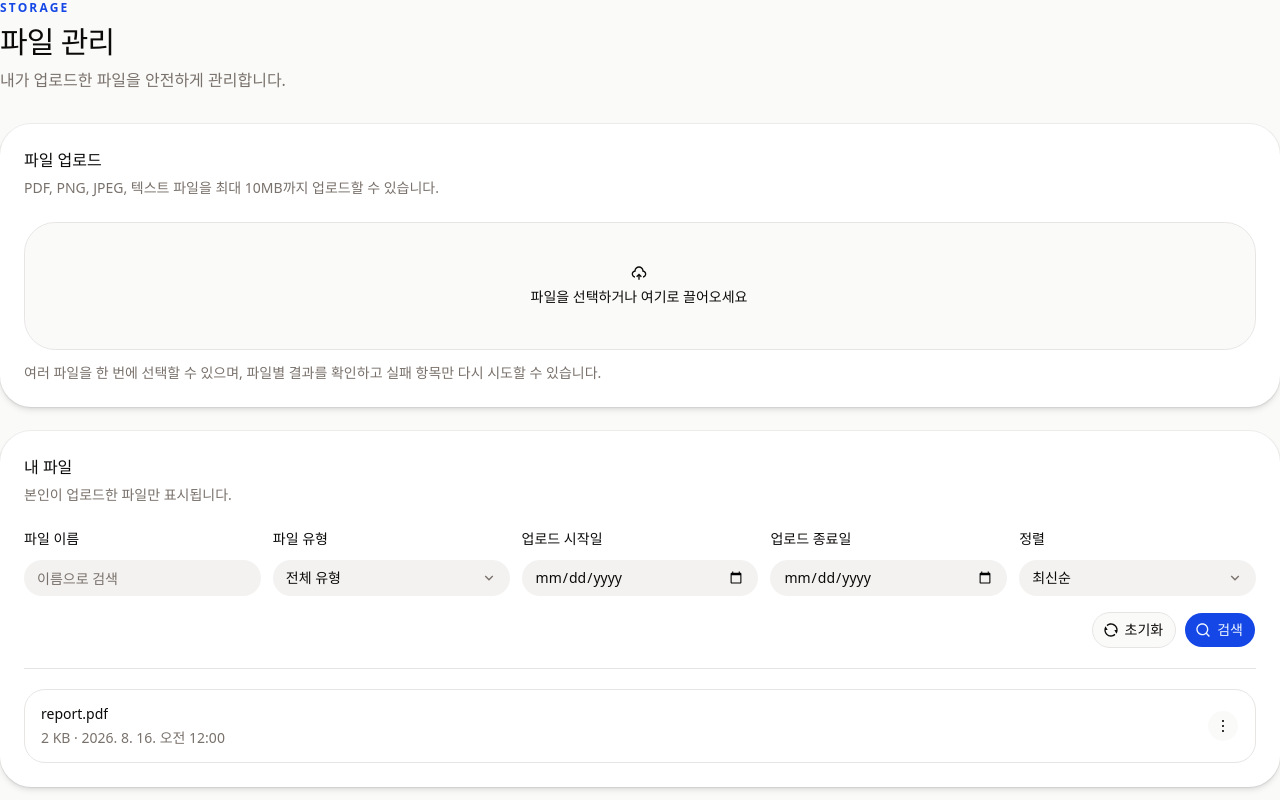
it: opens file details from the row action menu
This screenshot has width=1280, height=800.
Expected: the text "report.pdf" is shown, [41, 704, 108, 724]
Click the button named "report.pdf 작업 메뉴".
click(1223, 726)  # box [1207, 710, 1239, 742]
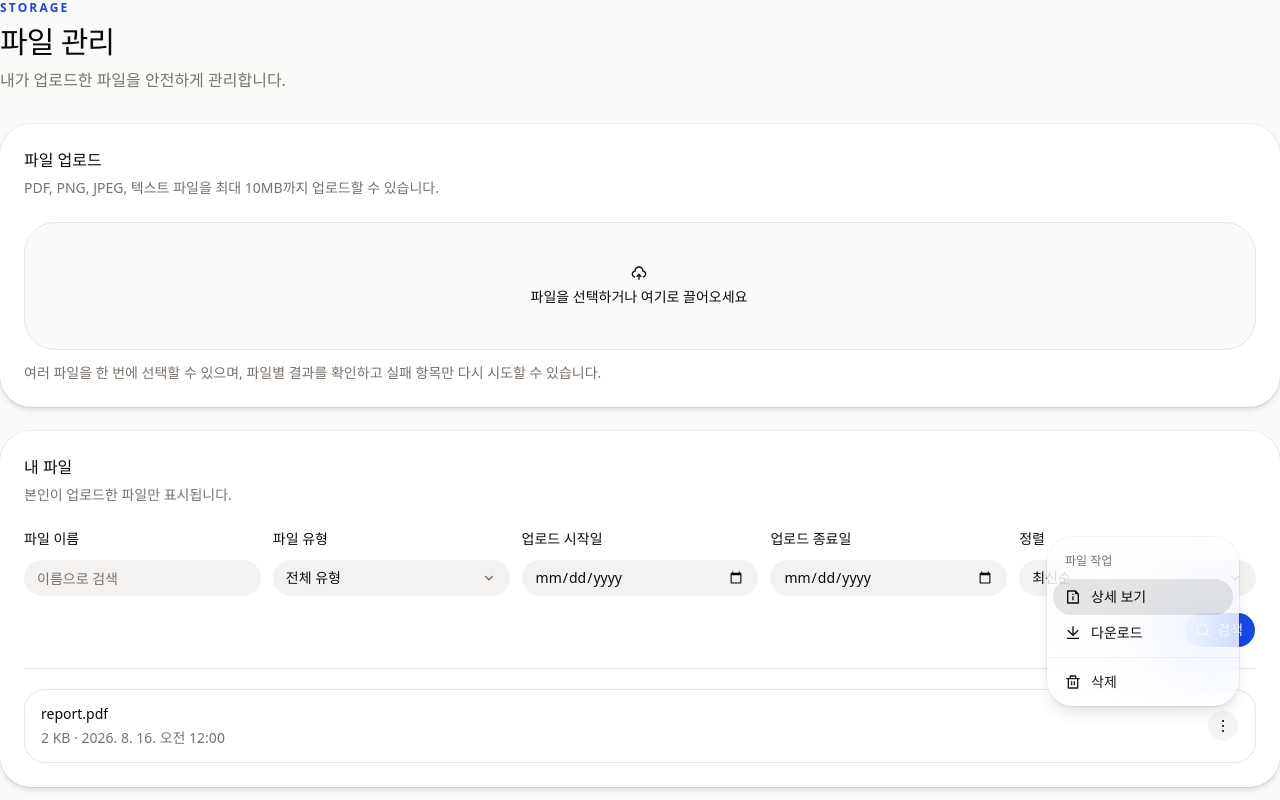
Click the menu item "상세 보기".
click(1143, 597)  # box [1053, 579, 1233, 615]
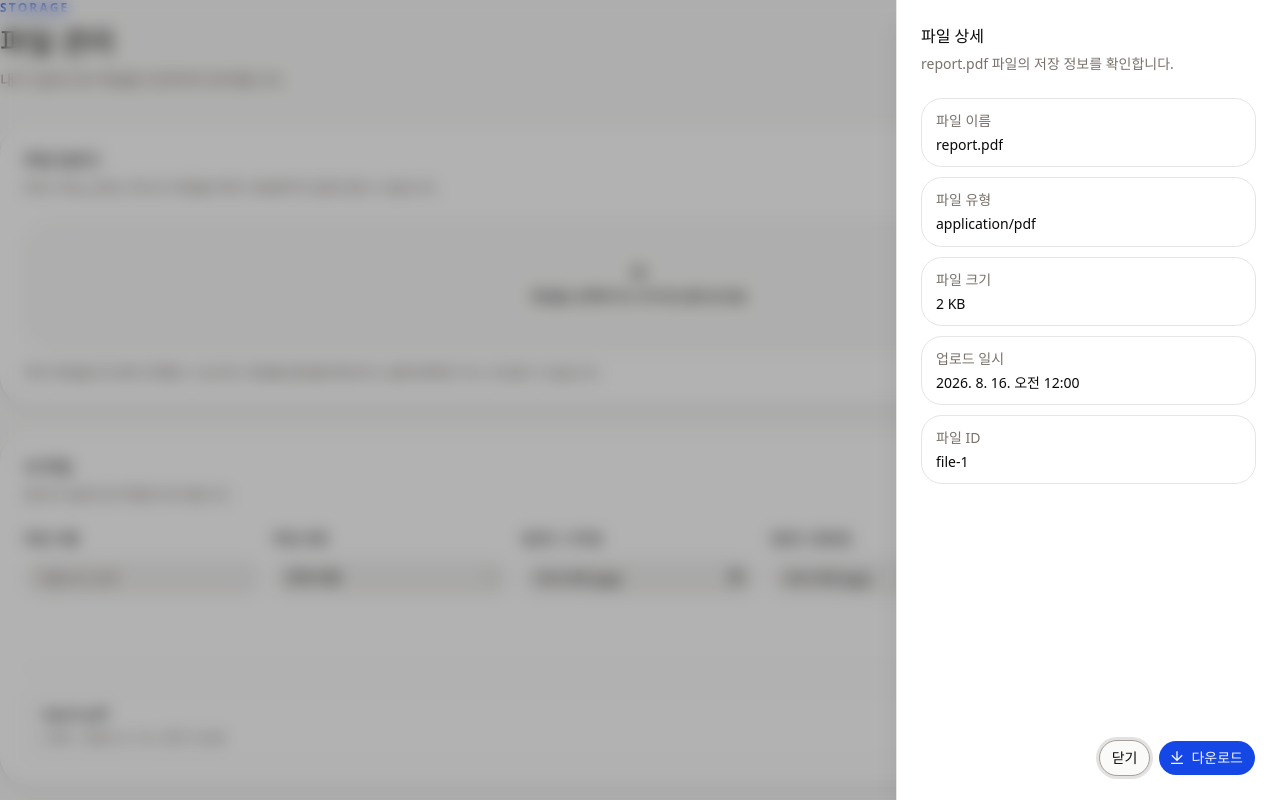
Expected: the text "application/pdf" is shown, [936, 214, 1036, 234]
Expected: the text "2 KB" is shown, [936, 294, 965, 313]
Expected: the text "file-1" is shown, [936, 452, 968, 471]
Click the button "닫기".
click(1125, 758)  # box [1099, 740, 1150, 776]
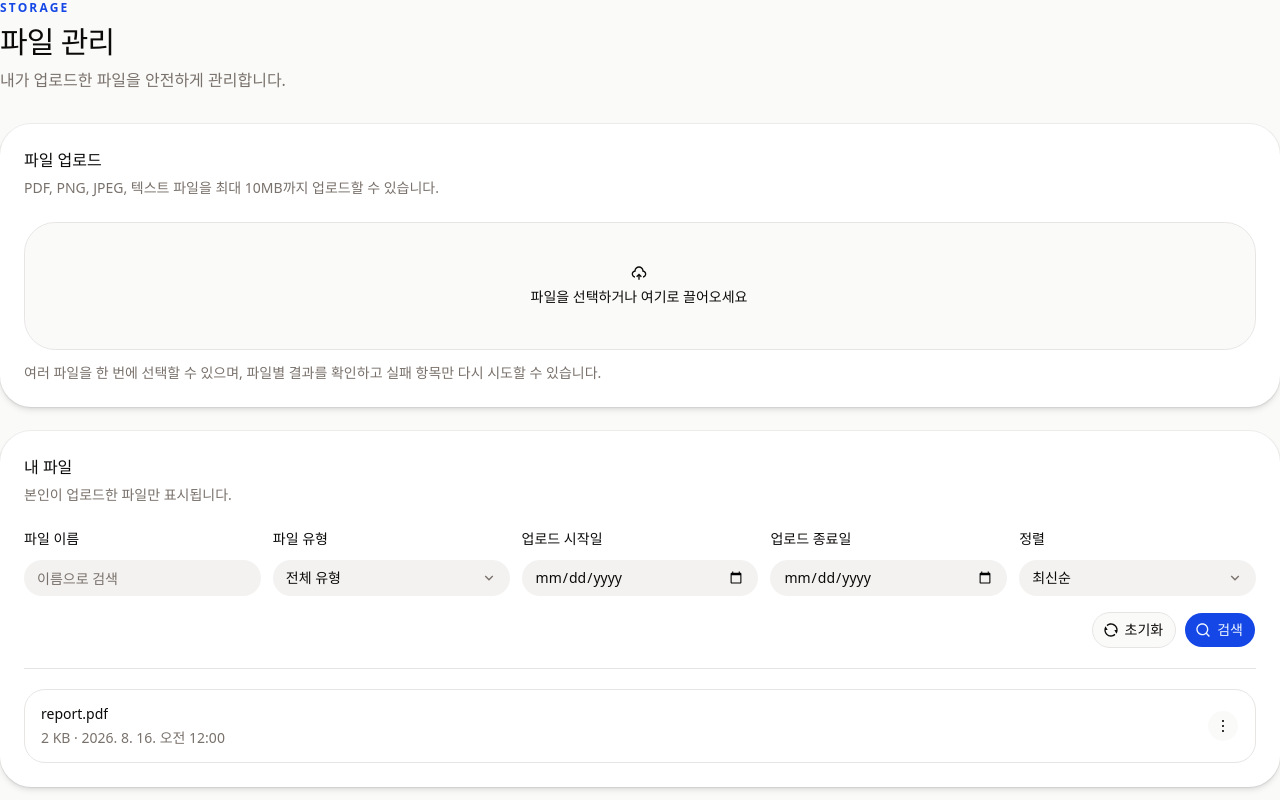
Expected: the heading "파일 상세" is gone
